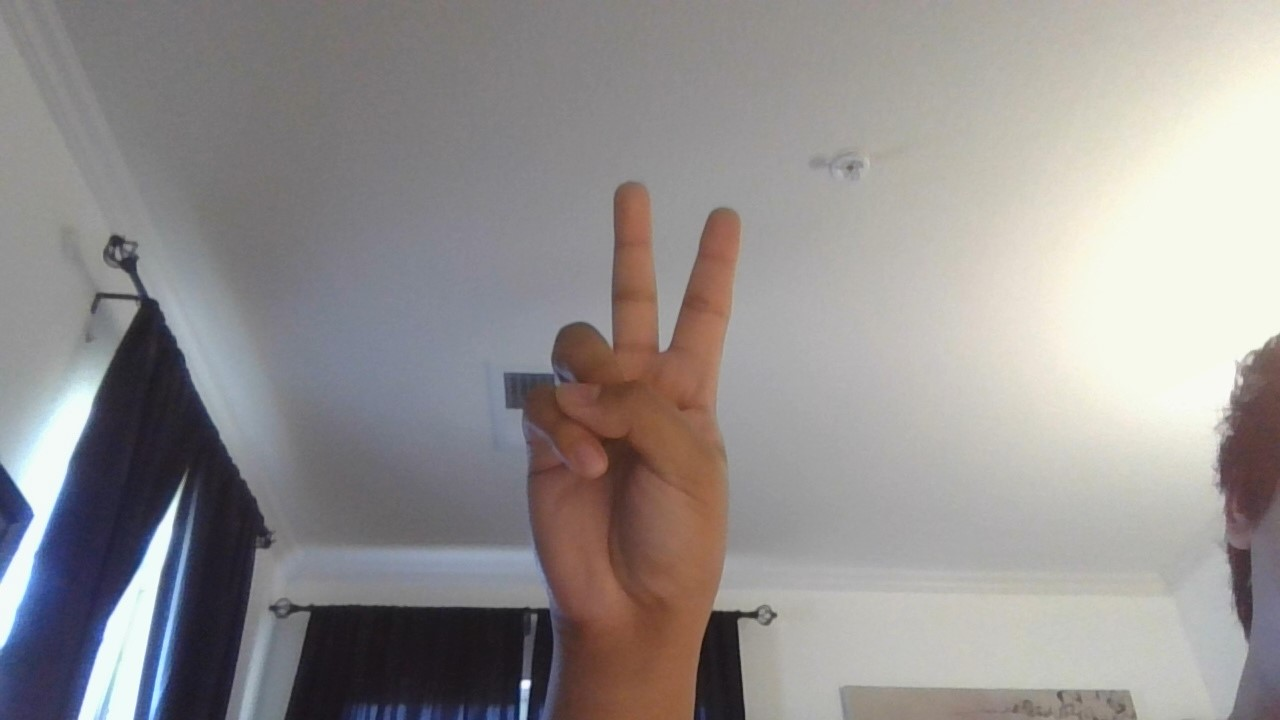v: (484, 160, 773, 681)
